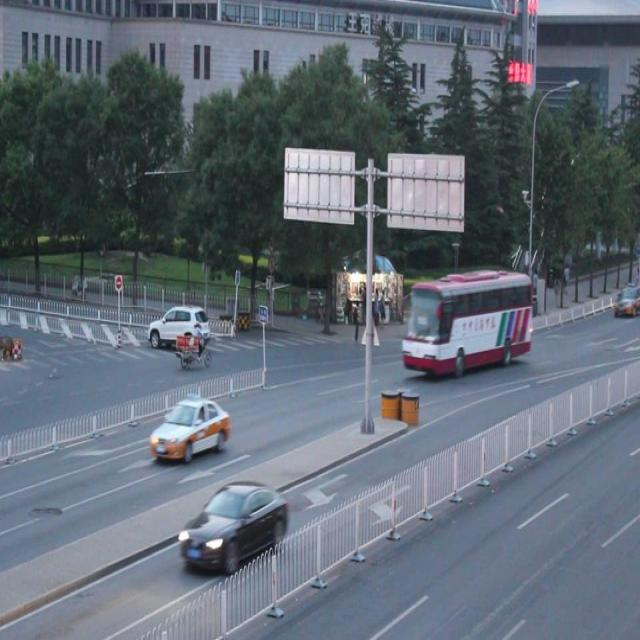car: (177, 478, 289, 564), (149, 394, 229, 466), (148, 308, 212, 358), (610, 281, 640, 316)
van: (402, 273, 530, 369)
